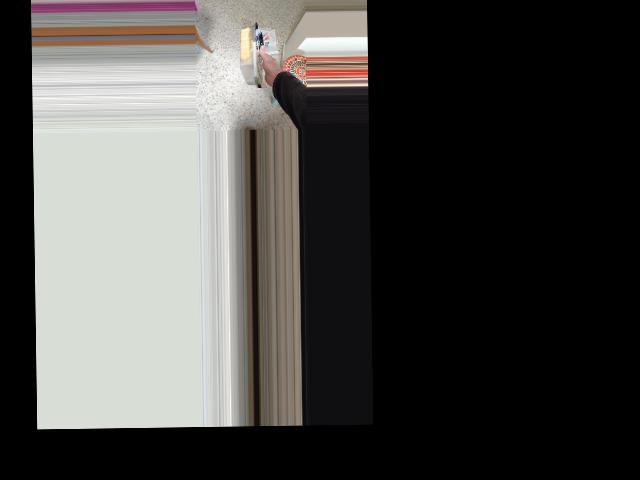cheese: (234, 22, 300, 92)
